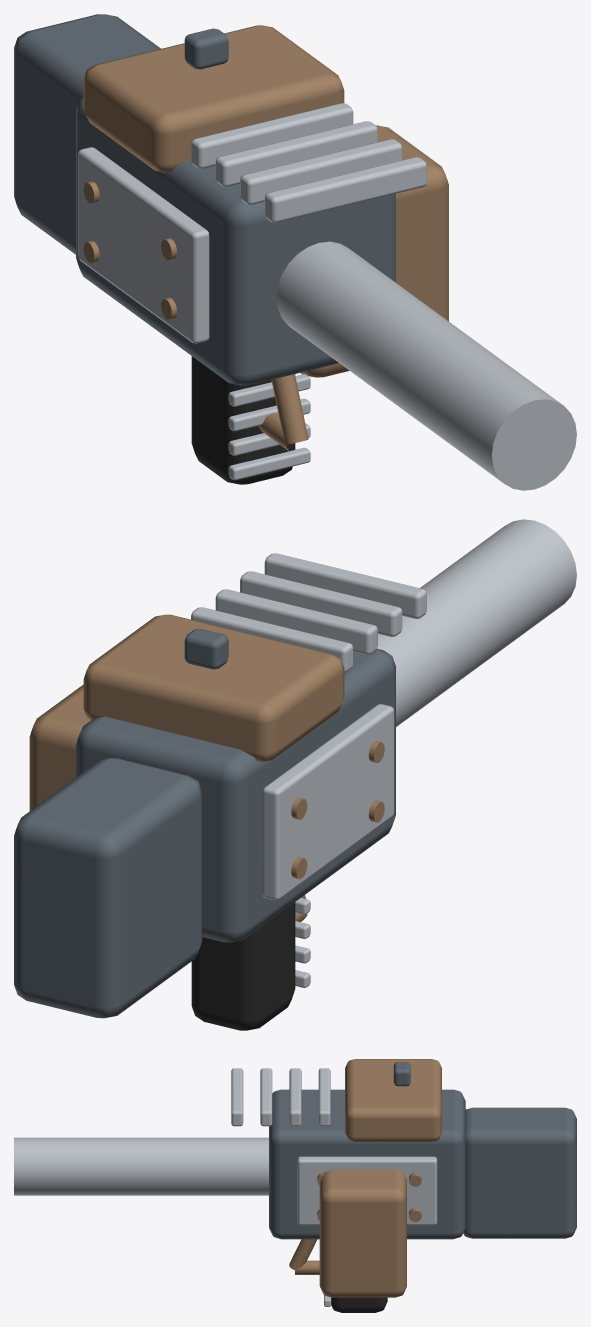
The model's file is arena-shooter-map-kit-machine-gun-pickup-0ca22dc1__23138.glb.
3 renders of one model, top to bottom at view 1: azimuth 30°, elevation 25°; view 2: azimuth 150°, elevation 25°; view 3: azimuth 270°, elevation 25°, orthographic. The views are drawn at different scales.
Visible parts, largest first — view 1: machine-gun-pickup; view 2: machine-gun-pickup; view 3: machine-gun-pickup.
Part boxes in pixels (bbox=[...]): machine-gun-pickup: bbox=[14, 14, 576, 490]; machine-gun-pickup: bbox=[14, 519, 576, 1030]; machine-gun-pickup: bbox=[14, 1059, 576, 1312].
Size of the model in its own units: 0.405 by 0.55 by 1.16.
